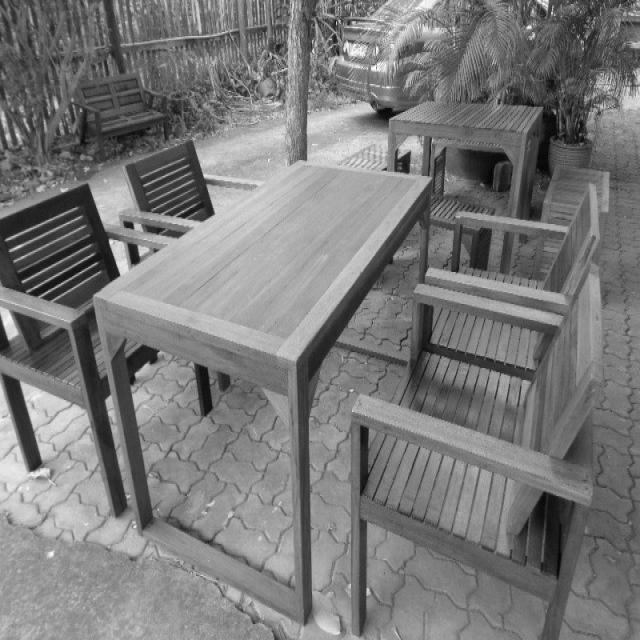table: (88, 154, 426, 366), (391, 75, 551, 166)
